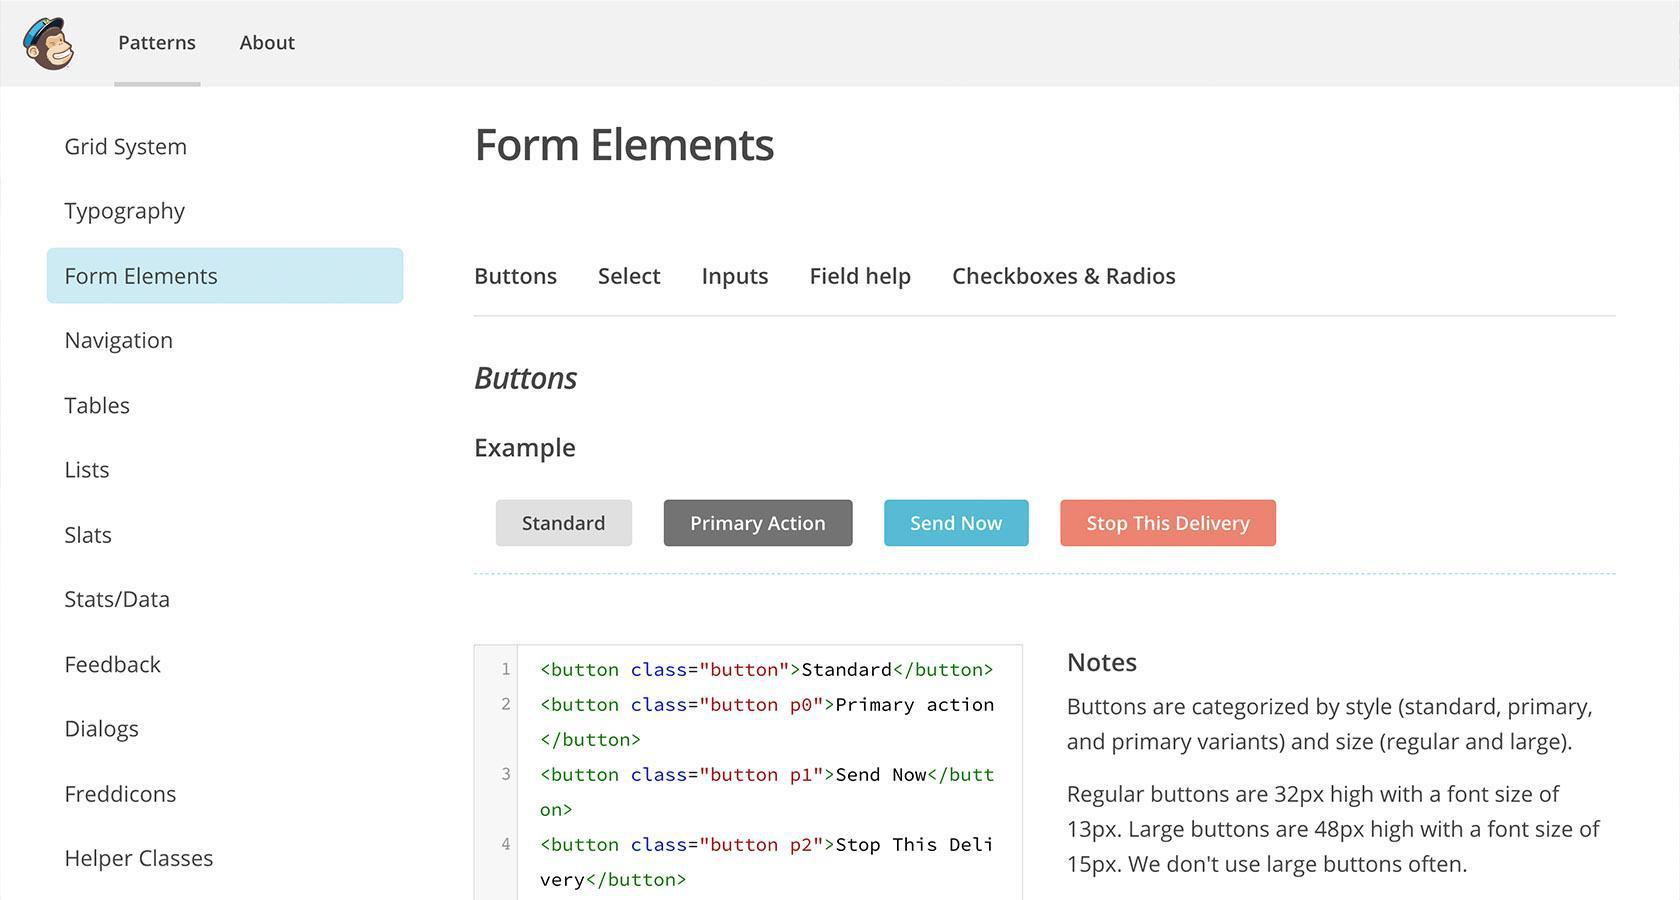button: (46, 247, 406, 307), (1058, 498, 1281, 548), (662, 500, 856, 548), (881, 497, 1033, 548), (491, 497, 639, 548)
label: (467, 121, 783, 176), (948, 263, 1178, 289), (468, 434, 579, 479), (472, 361, 581, 396), (59, 781, 178, 809), (809, 264, 916, 293), (63, 848, 217, 868), (64, 200, 188, 224), (64, 329, 176, 352), (62, 137, 190, 157), (60, 717, 142, 744), (476, 264, 560, 291), (63, 654, 164, 677), (64, 591, 172, 609), (702, 263, 772, 289), (599, 262, 662, 288), (117, 34, 199, 53), (63, 397, 133, 417), (63, 522, 116, 546), (64, 461, 113, 481), (241, 36, 297, 51)
